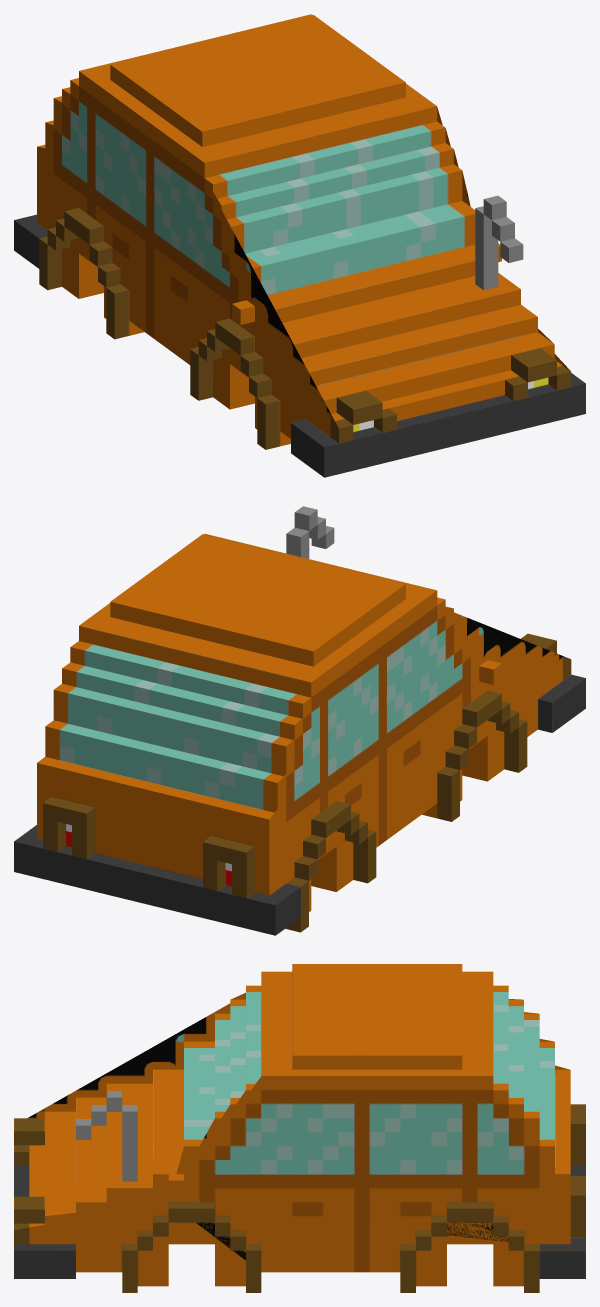
File: Car_Var2_2.obj
3 renders of one model, top to bottom at view 1: azimuth 30°, elevation 25°; view 2: azimuth 150°, elevation 25°; view 3: azimuth 270°, elevation 25°, orthographic. The views are drawn at different scales.
Visible parts, largest first — view 1: Car_Var2_2_Car_Var2_2.001; view 2: Car_Var2_2_Car_Var2_2.001; view 3: Car_Var2_2_Car_Var2_2.001.
Part boxes in pixels (box(x1,y1,x2,y2)): Car_Var2_2_Car_Var2_2.001: box(14, 14, 585, 477); Car_Var2_2_Car_Var2_2.001: box(14, 506, 585, 935); Car_Var2_2_Car_Var2_2.001: box(14, 964, 585, 1292).
Size of the model in its own units: 1.8 by 1.6 by 3.7.
